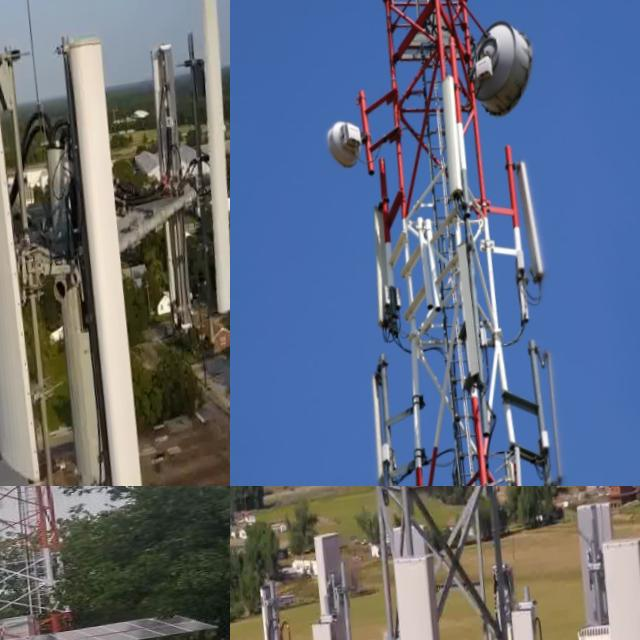GSM Antenna: (42, 28, 165, 486), (0, 0, 65, 486), (139, 36, 211, 332), (173, 0, 230, 317), (564, 488, 640, 640), (381, 546, 485, 640), (515, 344, 583, 486), (360, 195, 413, 348), (307, 524, 374, 640), (508, 159, 565, 290), (364, 352, 410, 486)
Microwave Antenna: (460, 9, 552, 129), (325, 105, 375, 184)
